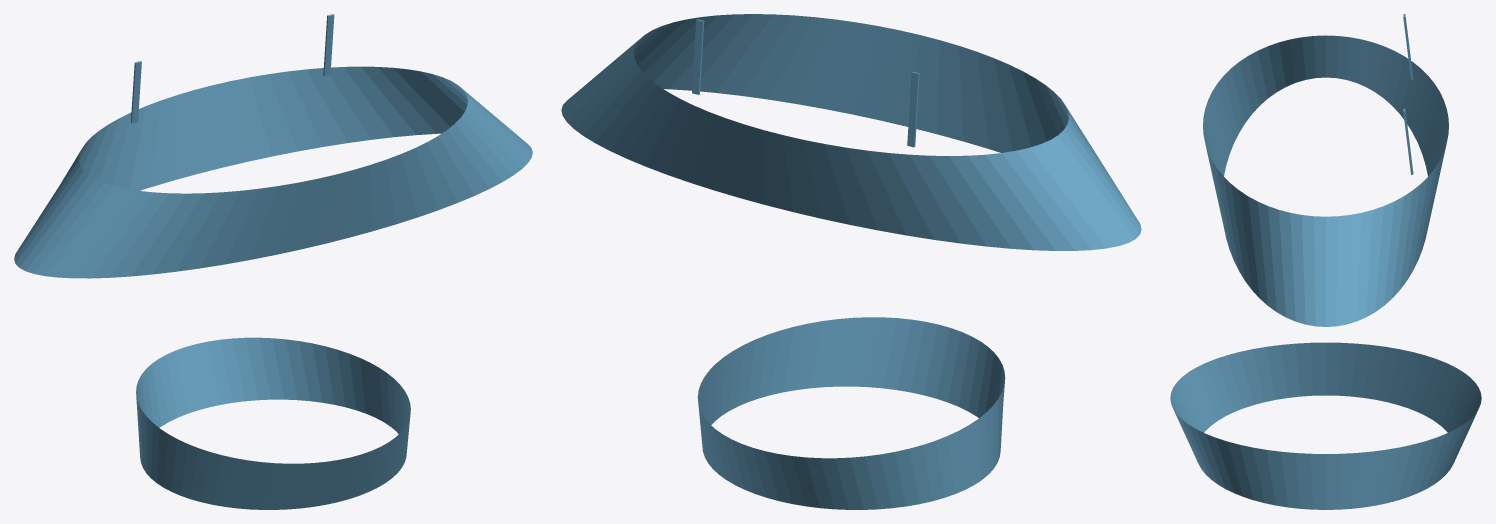
The model's file is sav4-bikini-blue.glb.
3 renders of one model, left to right at view 1: azimuth 30°, elevation 25°; view 2: azimuth 150°, elevation 25°; view 3: azimuth 270°, elevation 25°, orthographic. The views are drawn at different scales.
Visible parts, largest first — view 1: Bikini fitted top, Bikini fitted bottom; view 2: Bikini fitted top, Bikini fitted bottom, Bikini short shoulder strap, Bikini short shoulder strap.001; view 3: Bikini fitted top, Bikini fitted bottom.
Part boxes in pixels (<box>): Bikini fitted top: <box>14,66,532,278</box>; Bikini fitted bottom: <box>136,337,410,509</box>; Bikini fitted top: <box>561,14,1141,250</box>; Bikini fitted bottom: <box>697,317,1005,509</box>; Bikini short shoulder strap: <box>907,72,919,147</box>; Bikini short shoulder strap.001: <box>692,19,704,94</box>; Bikini fitted top: <box>1203,35,1448,326</box>; Bikini fitted bottom: <box>1170,342,1481,509</box>.
Bounding box in the file's own units: 0.8238 × 0.6004 × 0.4344.
